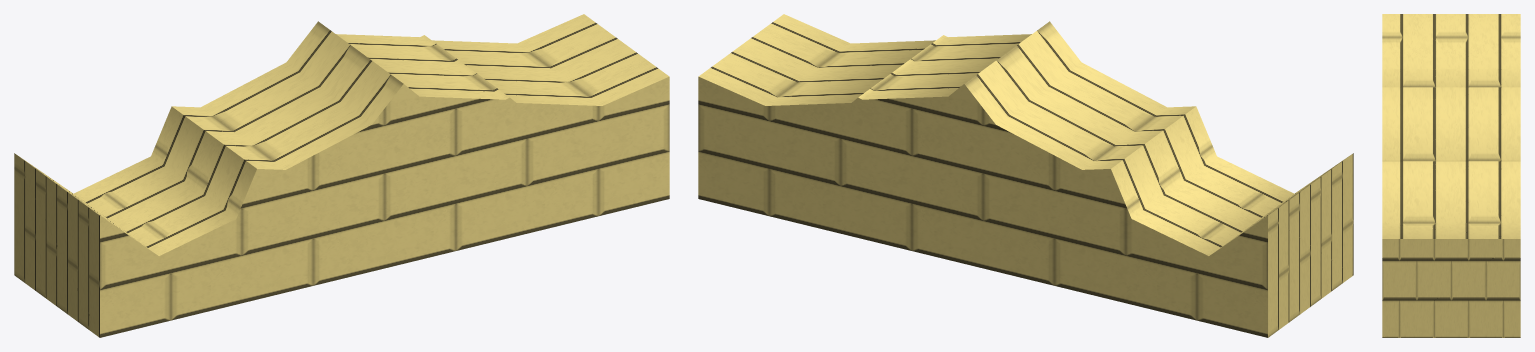
File: RuinWallV2.FBX
3 views of the same model, side by side, from view 1: azimuth 30°, elevation 25°; view 2: azimuth 150°, elevation 25°; view 3: azimuth 270°, elevation 25° (orthographic). The views are drawn at different scales.
Parts seen in each view (by area): view 1: Box001; view 2: Box001; view 3: Box001.
Boxes of the visible parts, box(x1,y1,x2,y2) form: Box001: box(14, 14, 669, 337); Box001: box(698, 14, 1353, 337); Box001: box(1382, 14, 1520, 337).
Size of the model in its own units: 74.53 by 22.51 by 19.37.
